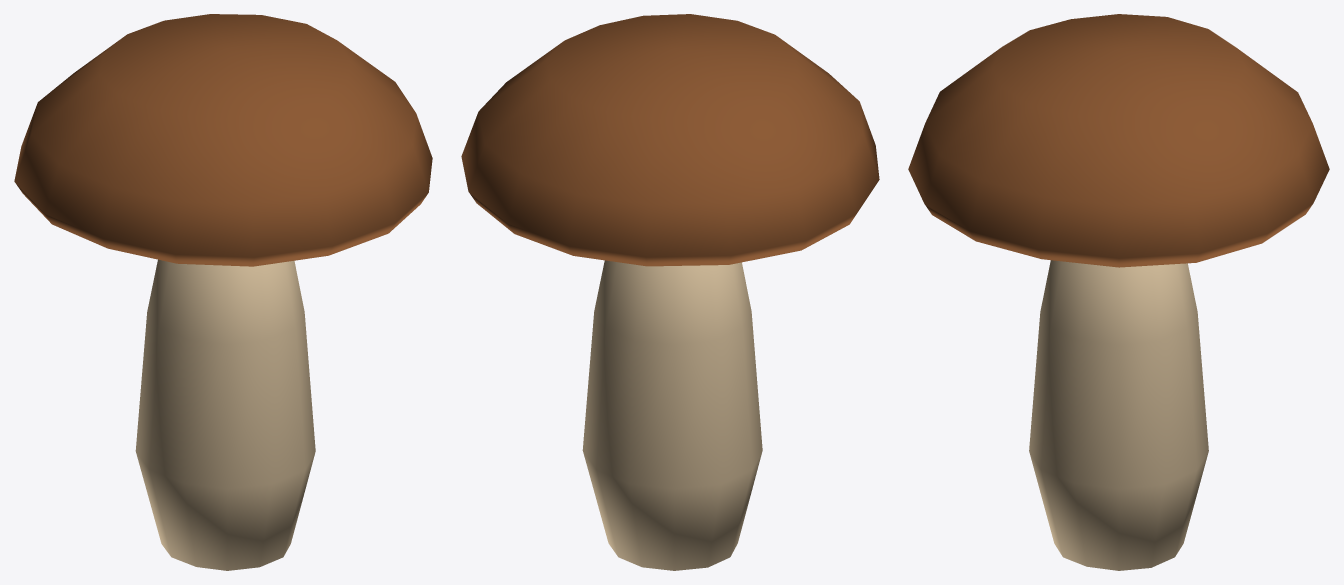
File: porcini-opening.glb
3 views of the same model, side by side, from view 1: azimuth 30°, elevation 25°; view 2: azimuth 150°, elevation 25°; view 3: azimuth 270°, elevation 25° (orthographic).
Visible parts, largest first — view 1: fungus_porcini-opening_LOD0; view 2: fungus_porcini-opening_LOD0; view 3: fungus_porcini-opening_LOD0.
Boxes of the visible parts, box(x1,y1,x2,y2) form: fungus_porcini-opening_LOD0: box(14, 14, 432, 570); fungus_porcini-opening_LOD0: box(461, 14, 879, 570); fungus_porcini-opening_LOD0: box(908, 14, 1329, 570).
Bounding box in the file's own units: 0.15 × 0.194 × 0.15.
